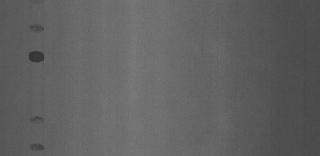oil spot: (26, 50, 46, 64), (28, 114, 44, 126), (27, 142, 46, 152), (27, 24, 46, 32)
